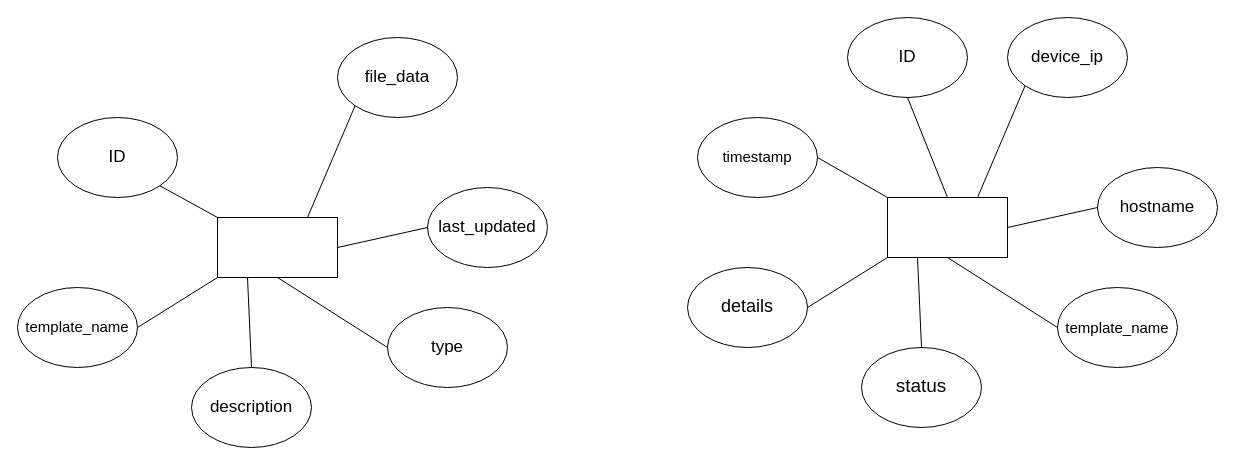
The diagram is 1235 pixels wide and 465 high, and some of its shapes have lost their labels. The shapes that lost their labels are listed below. From the top down, each one's centre as x and y in pixels, then its label:
At (277,247): "templates".
At (947,227): "deployment_logs".
